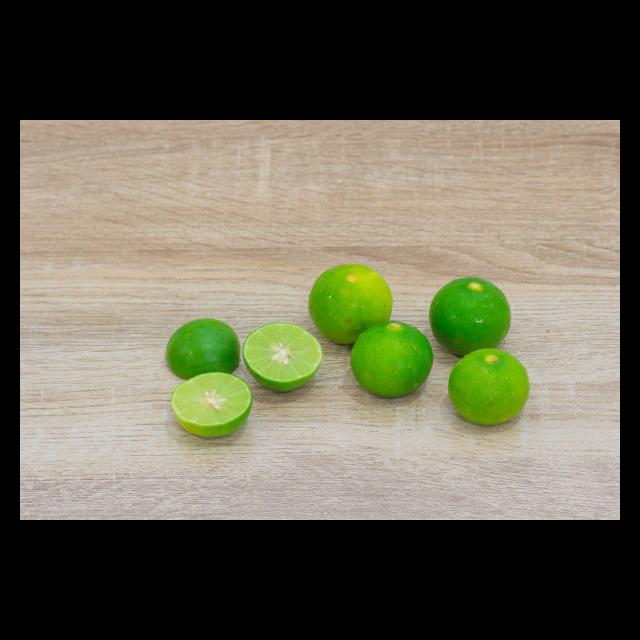lime: (300, 259, 396, 350), (424, 271, 518, 360), (347, 314, 438, 404), (443, 342, 532, 430)
